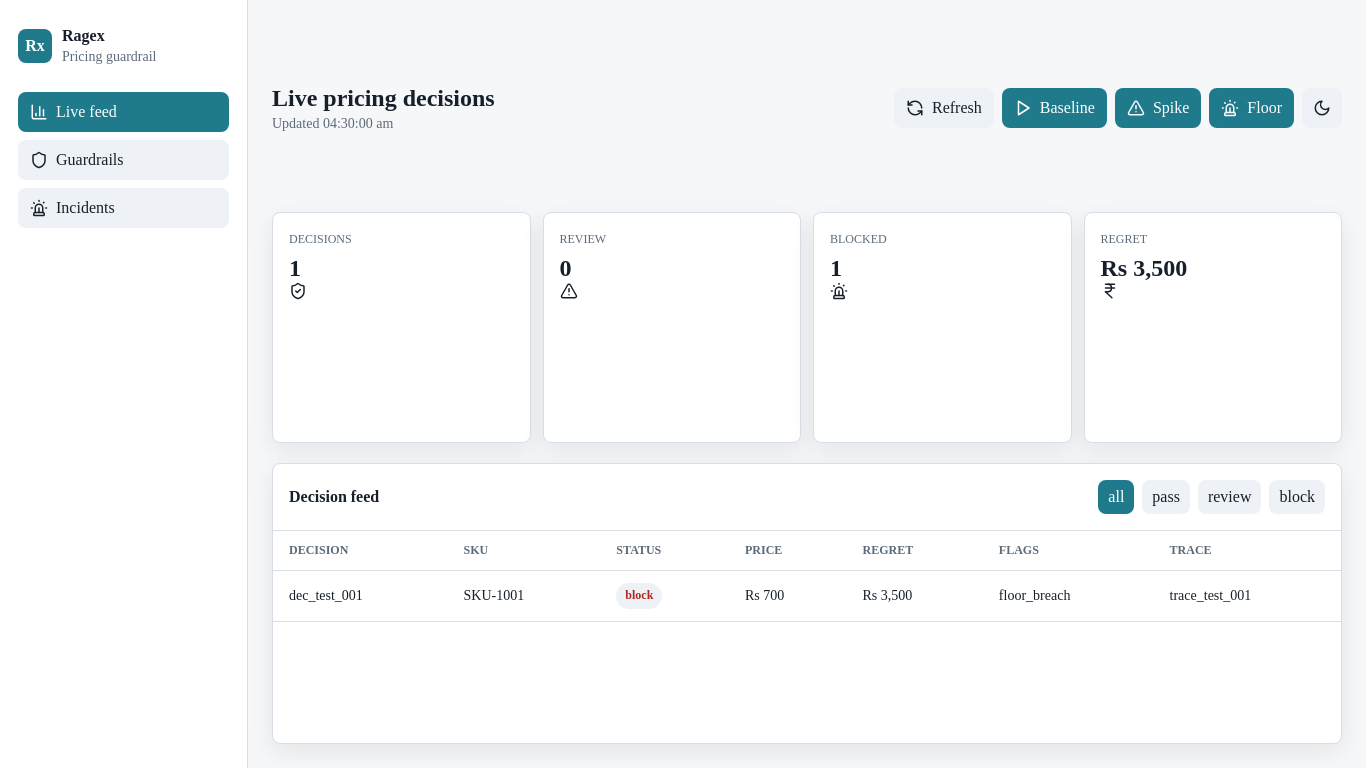
Test case: Dashboard › renders feed rows, filters blocked decisions, and opens detail
Expected: the text "SKU-1001" is shown, 448,570 -> 600,621
Click the button "block" at (1297, 497), box 1270,480 -> 1325,514
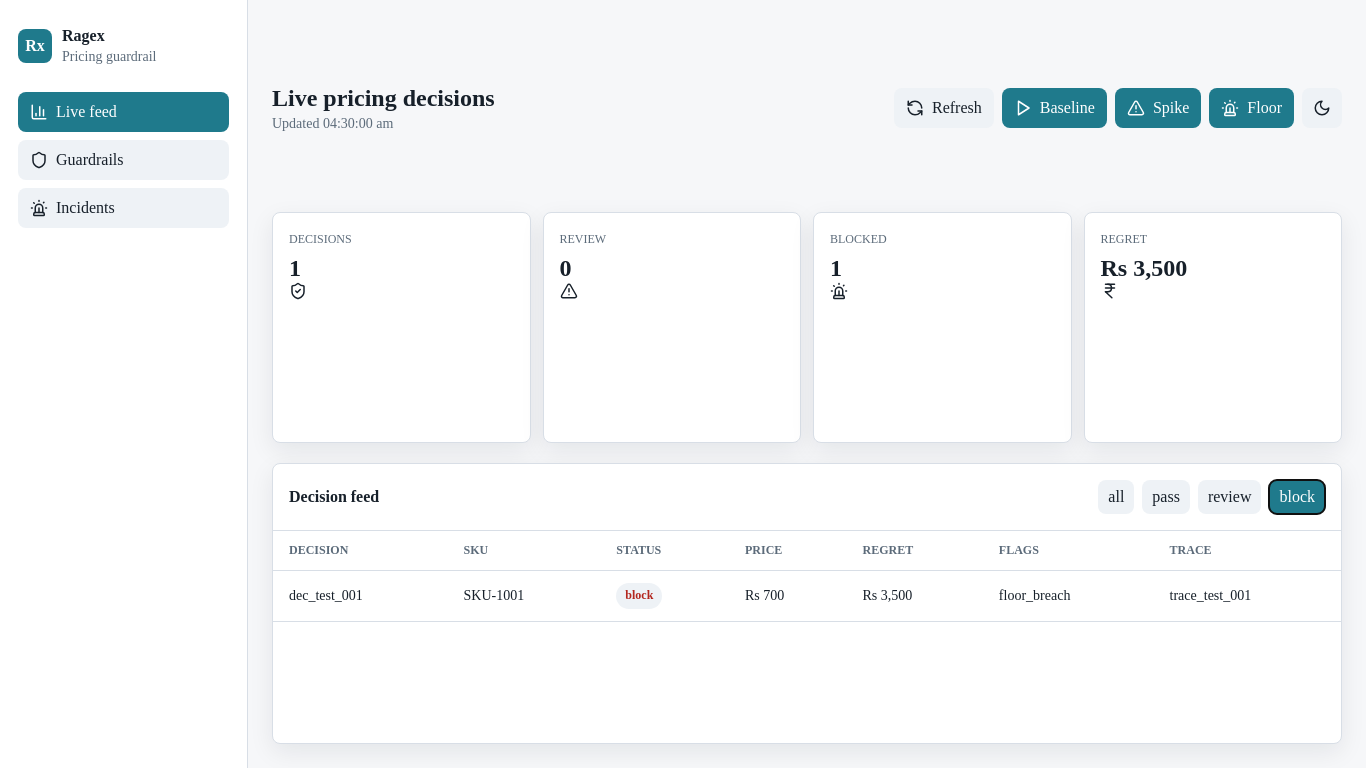
Expected: the text "floor_breach" is shown, 983,570 -> 1154,621
Click the text "SKU-1001" at (524, 596), box 448,570 -> 600,621
(page scrolled)
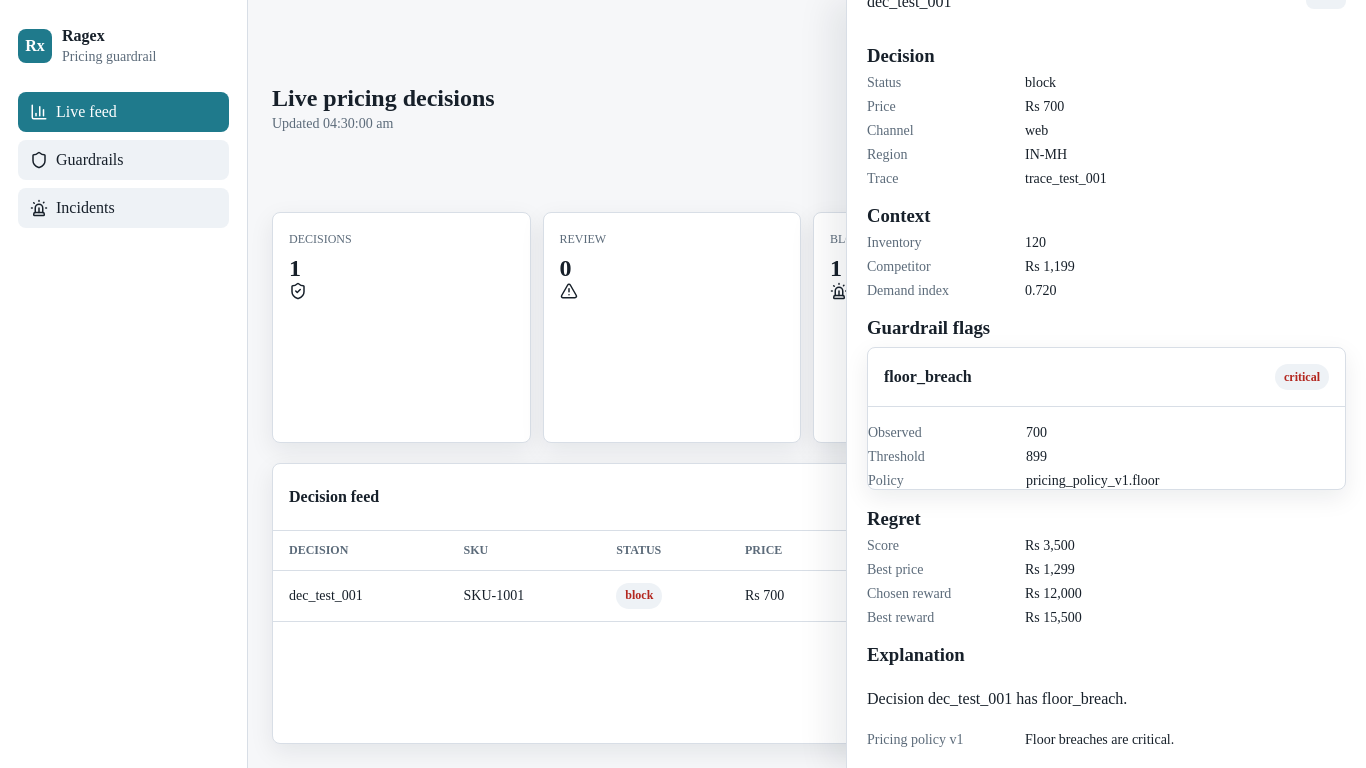
Result: the element named "Decision detail" is shown at 846,0 -> 1365,767
Result: the text "Pricing policy v1" is shown at 867,732 -> 963,747
